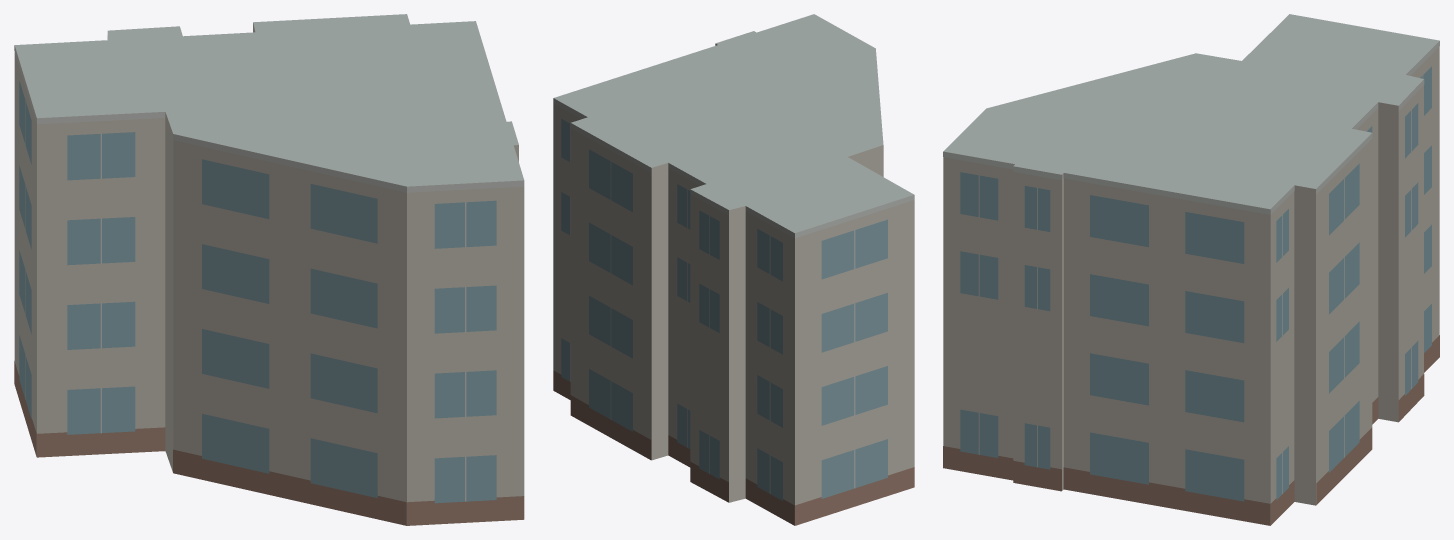
File: survey-upis-32492554.glb
The picture shows the model from 3 angles, left to right: view 1: azimuth 30°, elevation 25°; view 2: azimuth 150°, elevation 25°; view 3: azimuth 270°, elevation 25°; orthographic projection. The views are drawn at different scales.
Parts seen in each view (by area): view 1: survey-upis-32492554.tmp; view 2: survey-upis-32492554.tmp; view 3: survey-upis-32492554.tmp.
Boxes of the visible parts, left/top/right/bottom form: survey-upis-32492554.tmp: left=14, top=14, right=524, bottom=525; survey-upis-32492554.tmp: left=553, top=14, right=914, bottom=525; survey-upis-32492554.tmp: left=943, top=14, right=1439, bottom=525.
Size of the model in its own units: 18.2 by 13.75 by 19.56.
